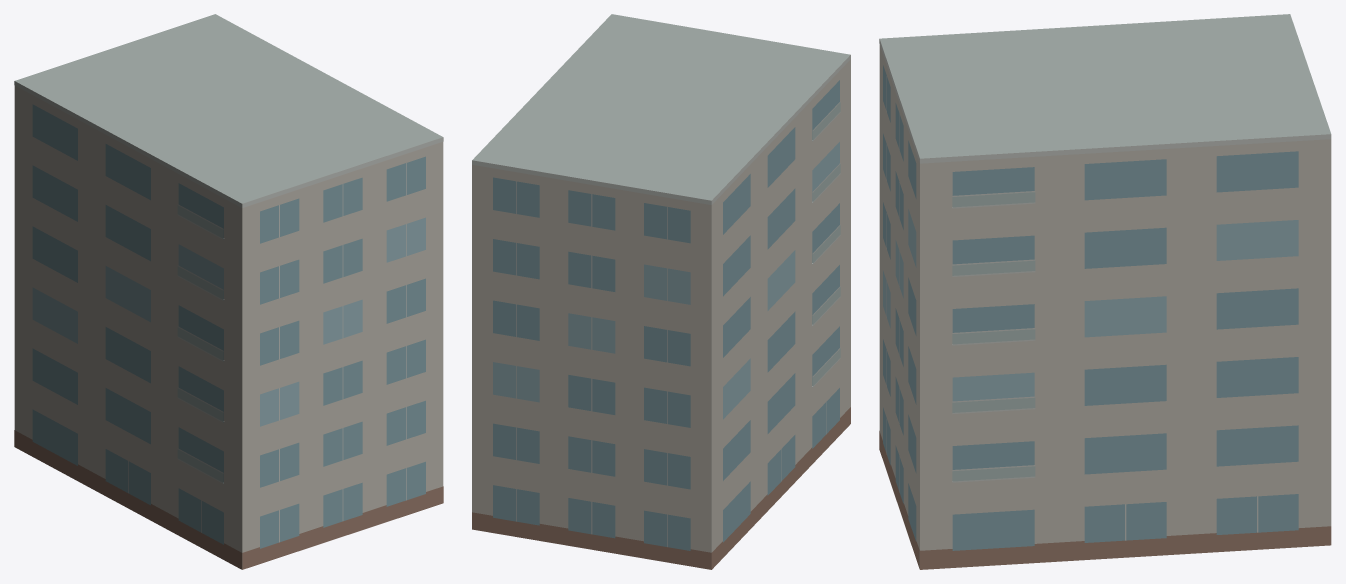
File: survey-upis-32532885.glb
3 renders of one model, left to right at view 1: azimuth 30°, elevation 25°; view 2: azimuth 150°, elevation 25°; view 3: azimuth 270°, elevation 25°, orthographic. The views are drawn at different scales.
Visible parts, largest first — view 1: survey-upis-32532885.tmp; view 2: survey-upis-32532885.tmp; view 3: survey-upis-32532885.tmp.
Part boxes in pixels (<box>): survey-upis-32532885.tmp: <box>14,14,443,569</box>; survey-upis-32532885.tmp: <box>472,14,850,569</box>; survey-upis-32532885.tmp: <box>879,14,1331,569</box>.
Size of the model in its own units: 15.33 by 20.3 by 20.23.
